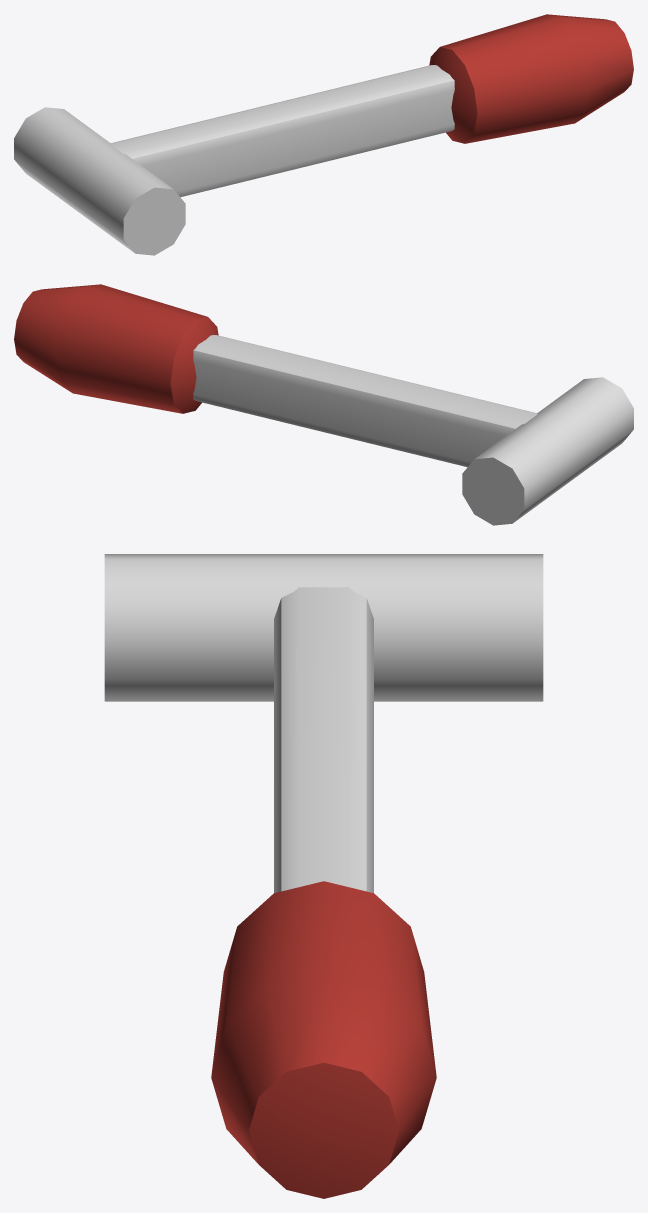
Rendered from SM_BreakerLever.fbx.
The picture shows the model from 3 angles, top to bottom: view 1: azimuth 30°, elevation 25°; view 2: azimuth 150°, elevation 25°; view 3: azimuth 270°, elevation 25°; orthographic projection. The views are drawn at different scales.
Parts seen in each view (by area): view 1: SM_BreakerLever_1; view 2: SM_BreakerLever_1; view 3: SM_BreakerLever_1.
Boxes of the visible parts, bbox=[...] form: SM_BreakerLever_1: bbox=[14, 14, 633, 255]; SM_BreakerLever_1: bbox=[14, 284, 633, 525]; SM_BreakerLever_1: bbox=[104, 554, 543, 1198].
Bounding box in the file's own units: 20.34 × 3.6 × 7.
